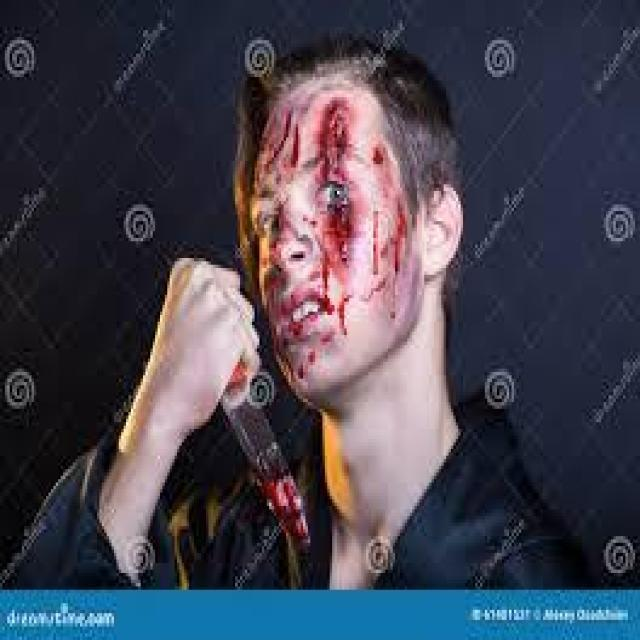flood: (318, 95, 356, 278)
